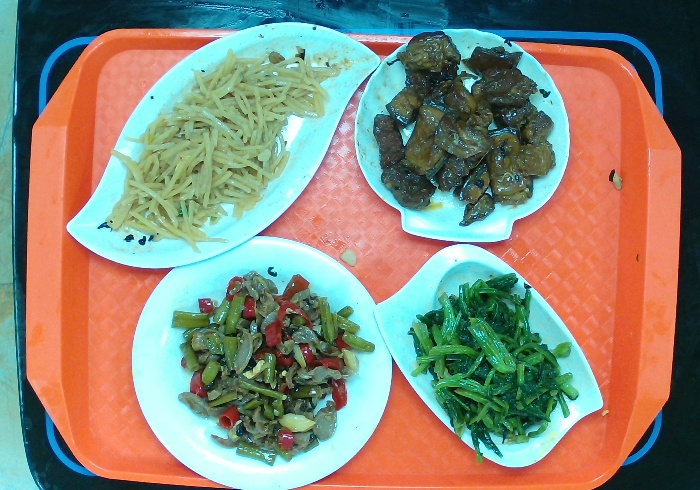RJxy-Bei_Ke_Wan: (348, 28, 572, 245)
RJxy-Jian_Jiao_Fang_Die: (373, 244, 605, 465)
RJxy-Jian_Jiao_Pan: (65, 16, 380, 273)
RJxy-Yuan_Pan: (128, 234, 395, 490)
